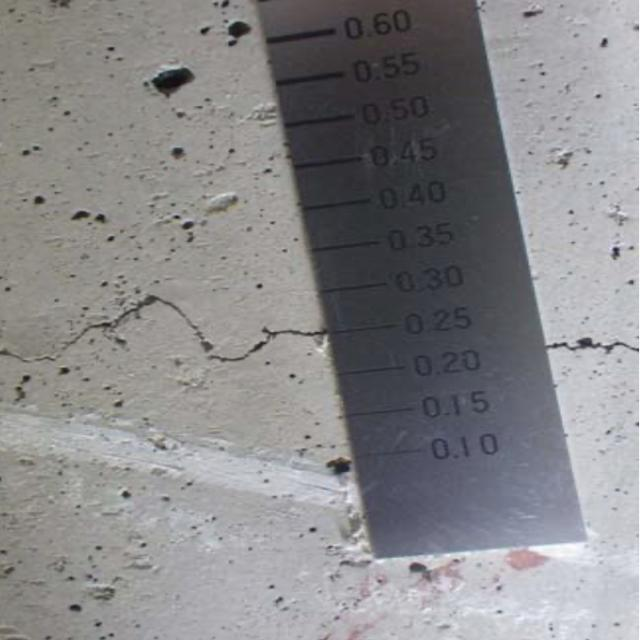crack: (10, 290, 319, 391), (550, 318, 640, 378)
